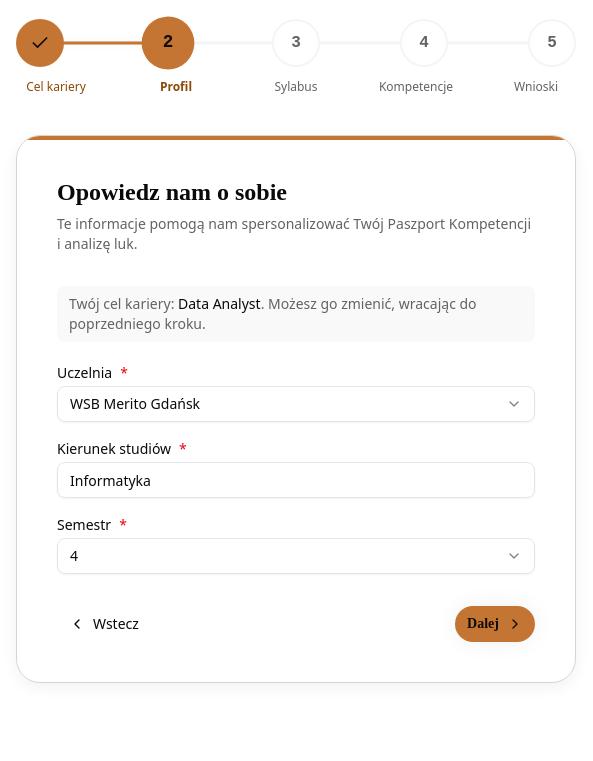
Test: OnboardingWizard — autosave profilu (PATCH /progress) › zmiana profilu + Dalej → PATCH /progress {step:1, ...profil} z poprawnym ciałem
Click the button "Dalej": click(495, 624) [455, 606, 535, 642]
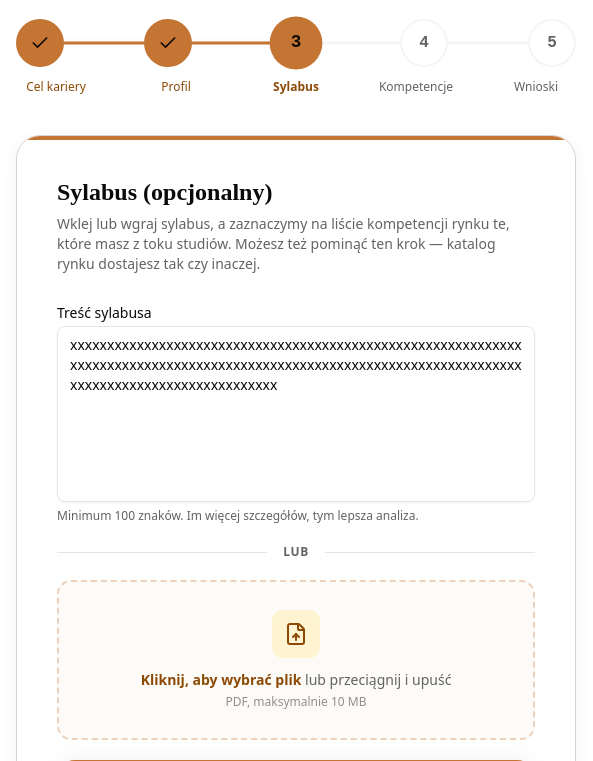
Check: the heading "Sylabus (opcjonalny)" is shown, box [57, 179, 272, 205]
